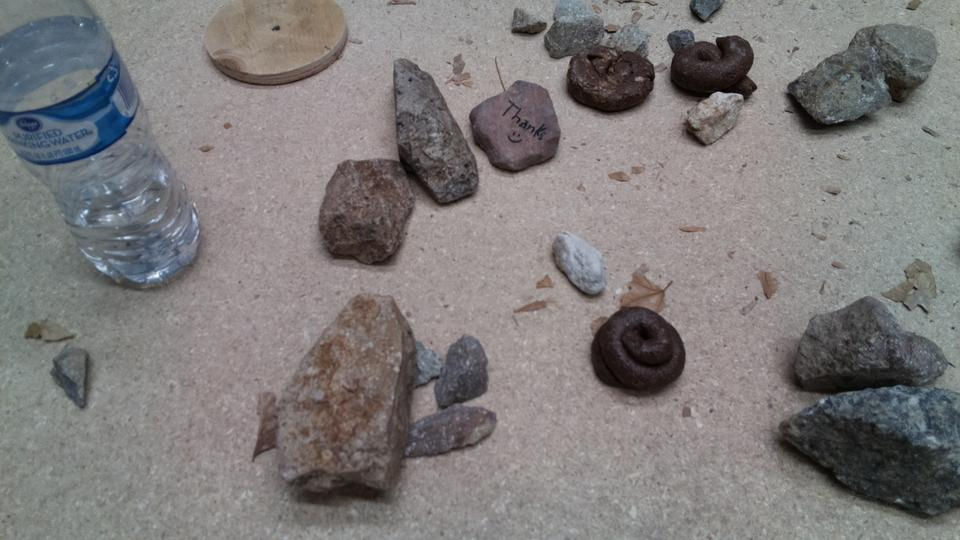poop: (586, 305, 689, 397), (668, 30, 760, 102), (565, 43, 658, 114)
